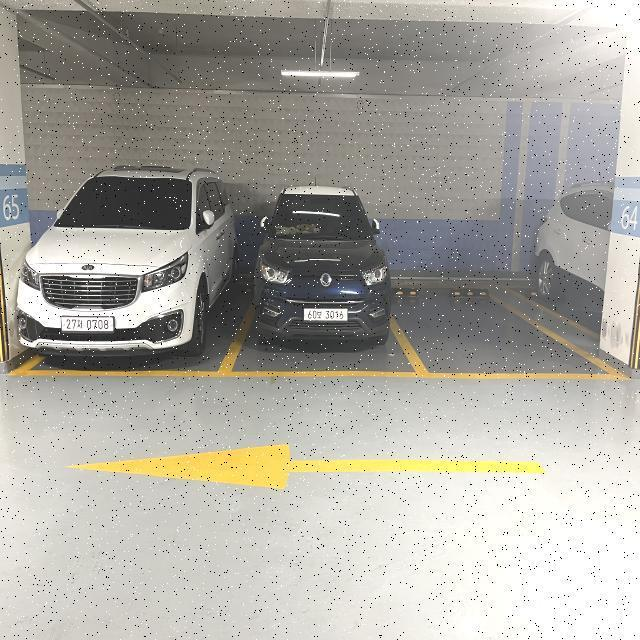Car: (22, 152, 238, 386), (238, 151, 406, 388)
Vacant: (406, 284, 578, 385)
